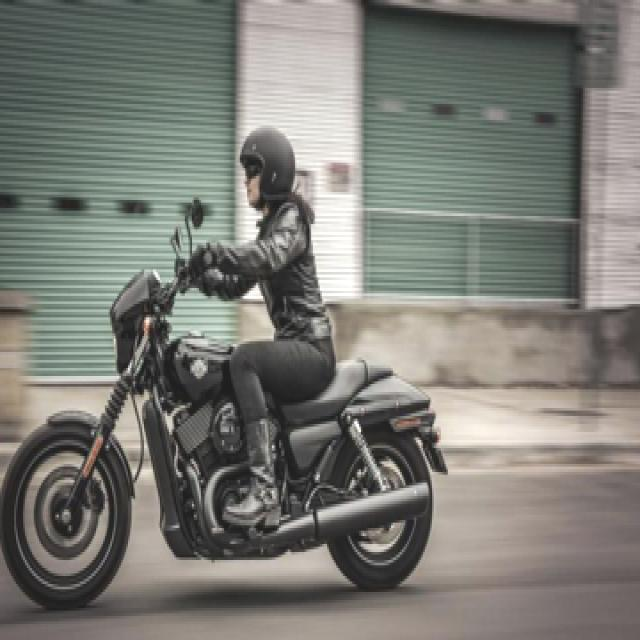Helmet: (235, 106, 302, 218)
